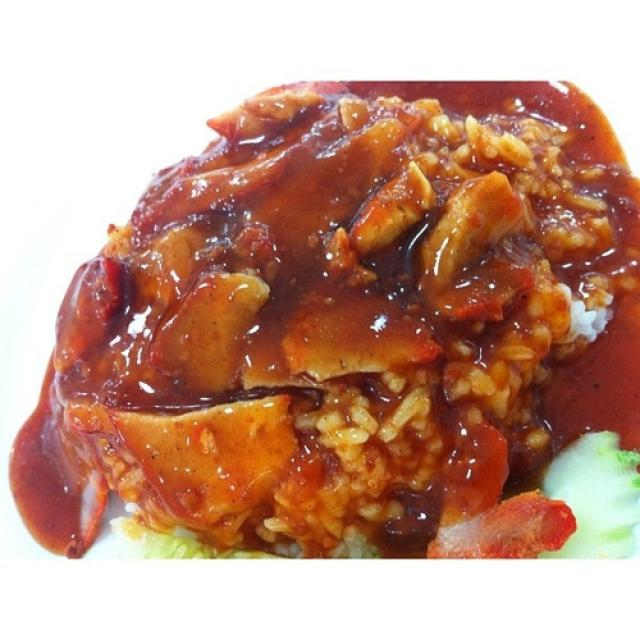猪肉菜式: (37, 50, 620, 567)
